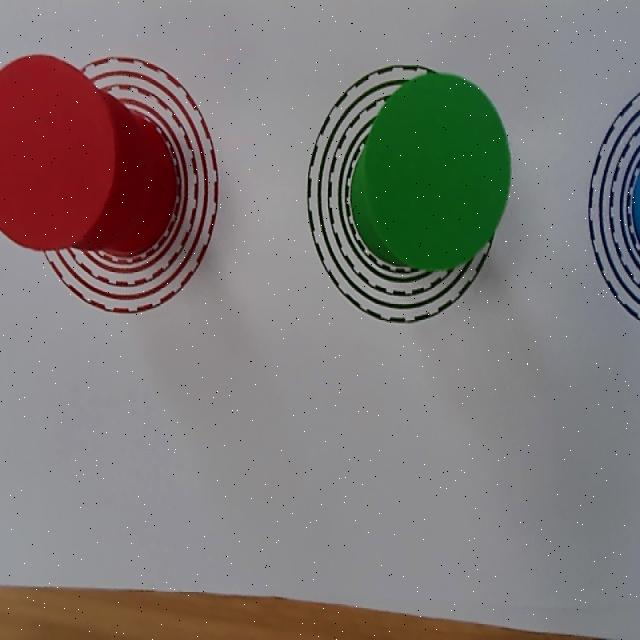g: (365, 74, 512, 270)
